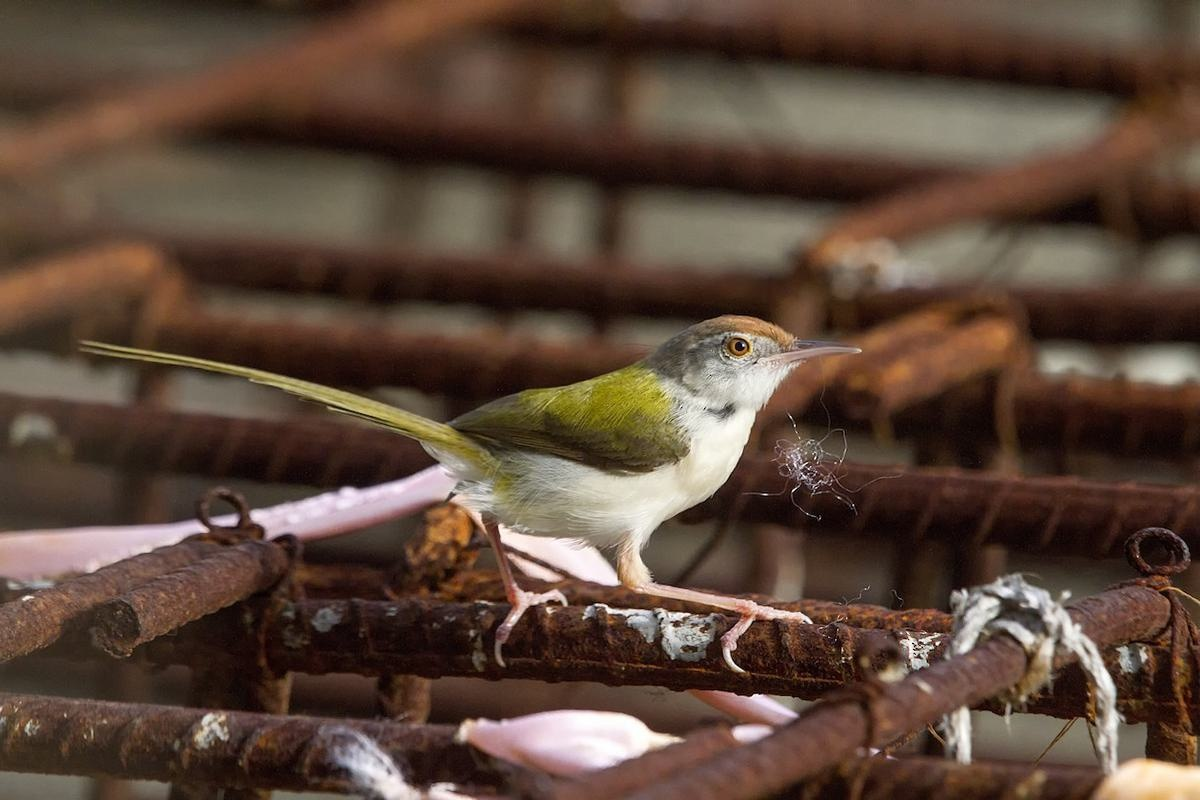tailorbird: (67, 262, 888, 622)
